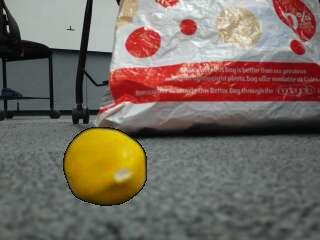lemon: (64, 130, 145, 207)
